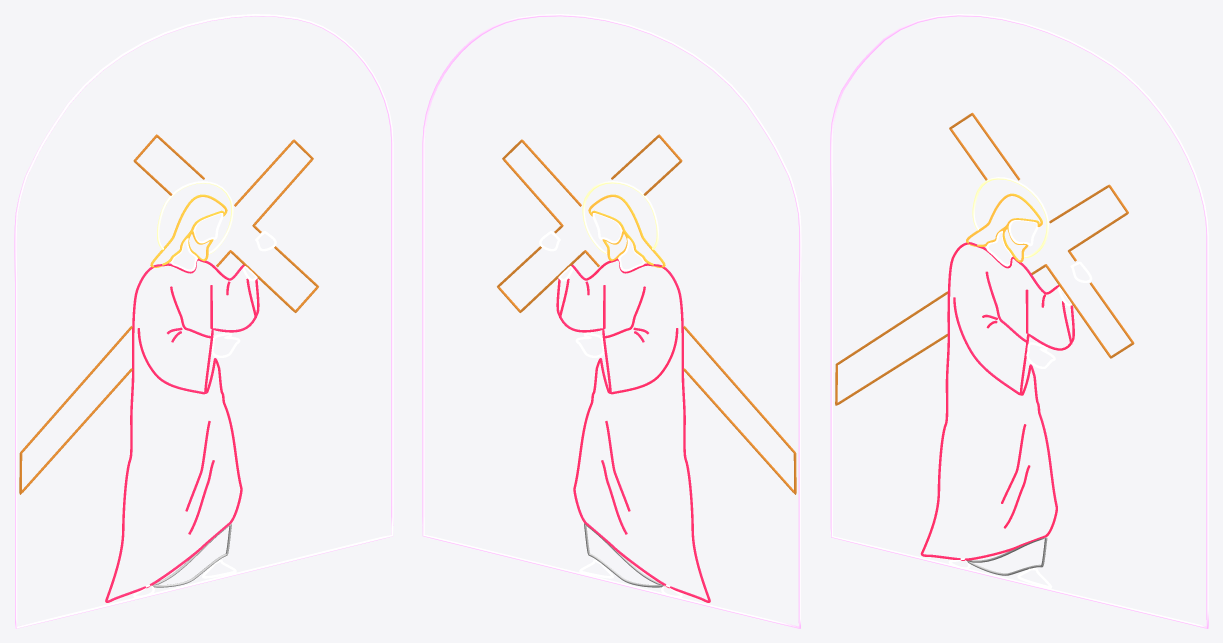
The model's file is 2-Llevando la cruz.fbx.
The picture shows the model from 3 angles, left to right: view 1: azimuth 30°, elevation 25°; view 2: azimuth 150°, elevation 25°; view 3: azimuth 330°, elevation 25°; orthographic projection.
Parts seen in each view (by area): view 1: 2-LLevando la cruz; view 2: 2-LLevando la cruz; view 3: 2-LLevando la cruz.
Part boxes in pixels (x1,y1,x2,y2): 2-LLevando la cruz: (14, 14, 393, 628); 2-LLevando la cruz: (422, 14, 801, 628); 2-LLevando la cruz: (830, 14, 1208, 628).
Bounding box in the file's own units: 353 × 501 × 2.
